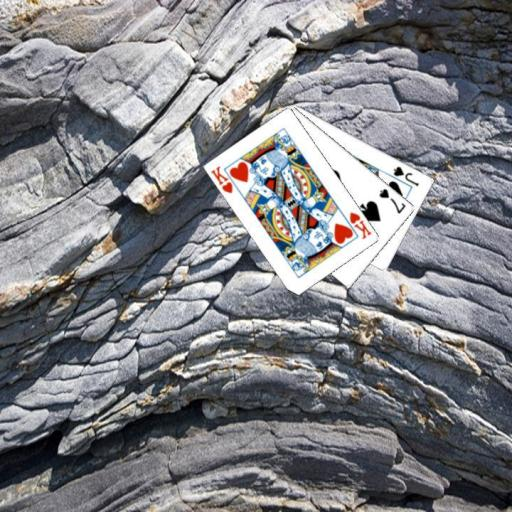7S: (376, 186, 408, 216)
JS: (391, 163, 421, 188)
KH: (208, 163, 235, 195), (347, 209, 374, 240)
